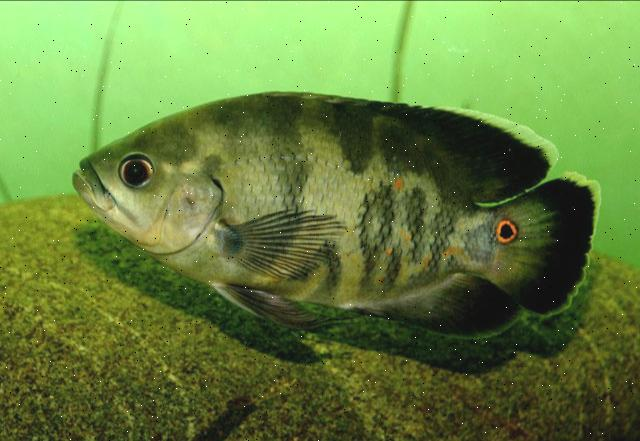Mulut: (56, 146, 128, 234)
Sirip Anal: (361, 269, 533, 351)
Sirip Dada: (218, 201, 358, 287)
Sirip Ekor: (482, 164, 610, 324)
Sirip Perut: (206, 274, 322, 336)
Sirip Punggung: (404, 90, 560, 208)
